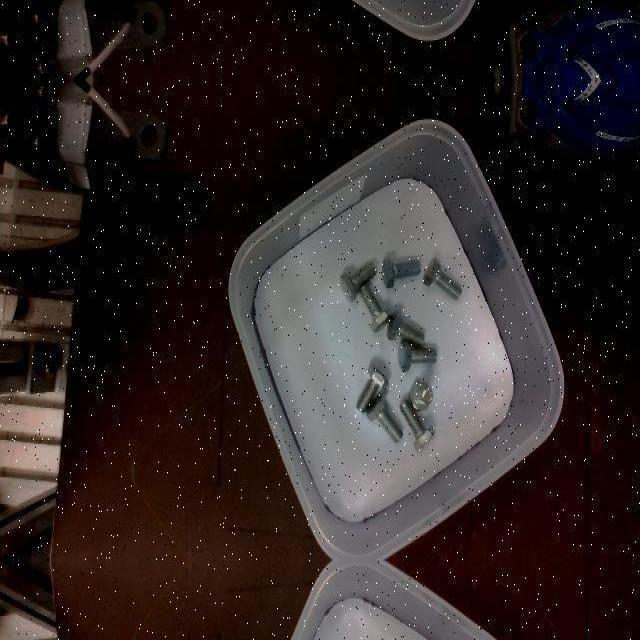screw: (399, 398, 435, 450), (366, 393, 403, 443), (422, 257, 462, 301), (358, 282, 392, 332), (355, 366, 389, 414), (386, 308, 425, 348), (340, 262, 377, 302), (398, 338, 437, 372), (382, 256, 421, 288), (408, 379, 432, 409)
